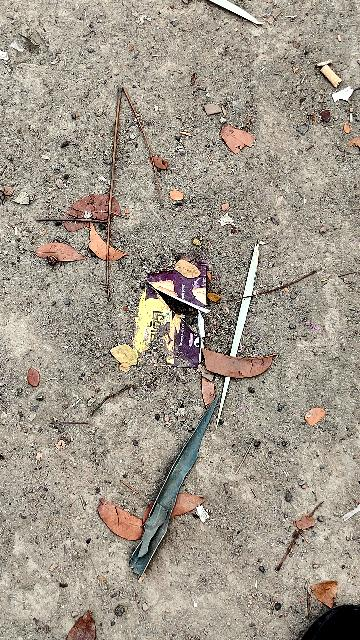polythene: (130, 261, 210, 371)
